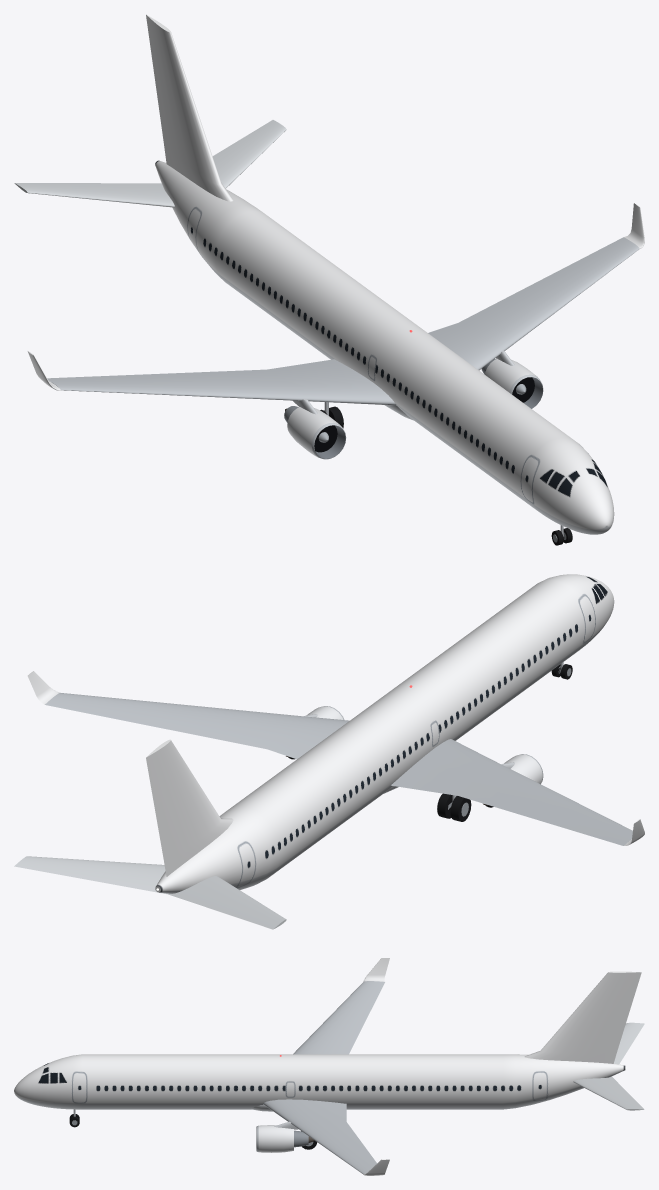
The picture shows the model from 3 angles, top to bottom: view 1: azimuth 30°, elevation 25°; view 2: azimuth 150°, elevation 25°; view 3: azimuth 270°, elevation 25°; orthographic projection. The views are drawn at different scales.
Visible parts, largest first — view 1: body; view 2: body, gear; view 3: body.
Boxes of the visible parts, box(x1,y1,x2,y2) form: body: box(14, 14, 644, 534); body: box(14, 574, 644, 929); gear: box(437, 662, 572, 821); body: box(14, 958, 644, 1175).
Size of the model in its own units: 28.32 by 10 by 37.41.
Materials: 19 (1 with a texture image).
